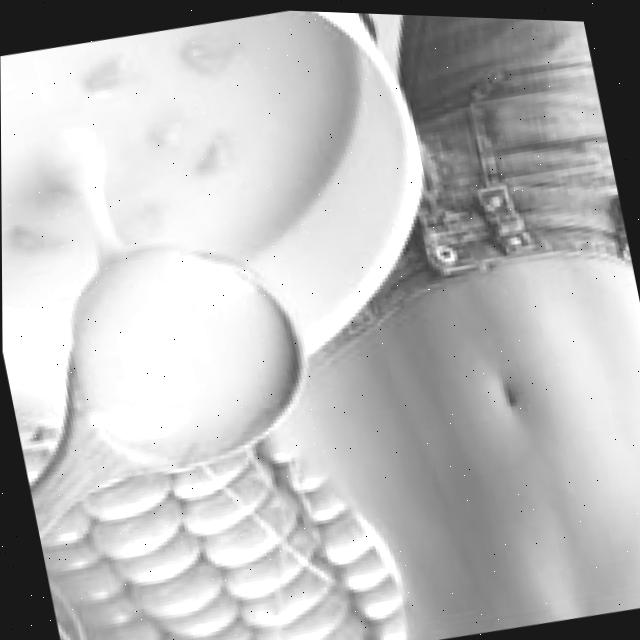汤锅炖物: (0, 0, 436, 281)
